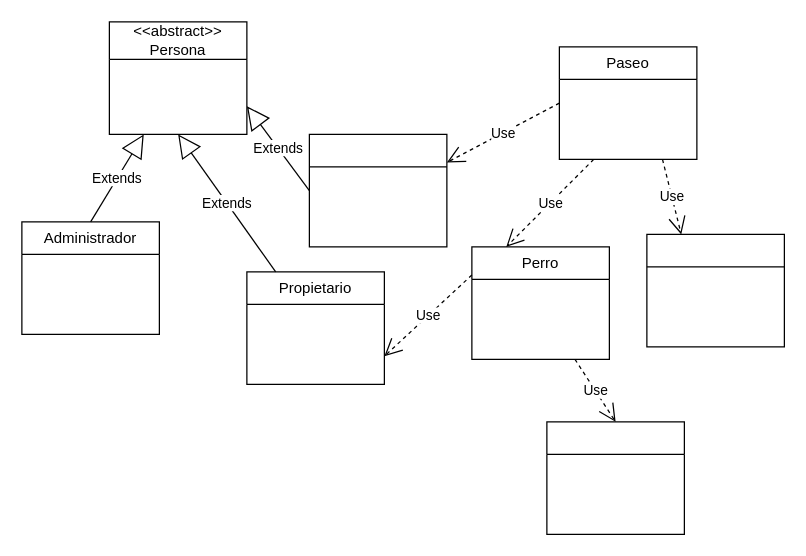
This 806x556 diagram has some shape labels left out. The shapes that lost their labels are listed below. From the top down, each one's centre as x and y in pixels, then its label:
At point 377,190: "Paseador".
At point 715,290: "Estado".
At point 615,477: "Raza".
